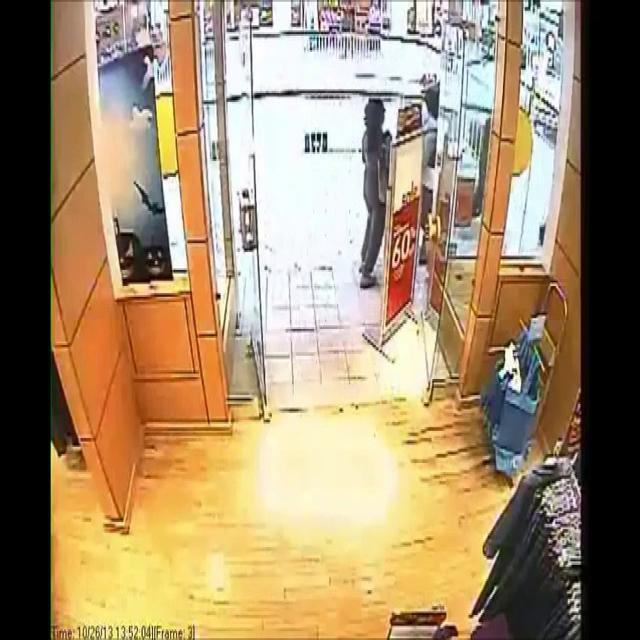normal: (330, 83, 392, 321)
